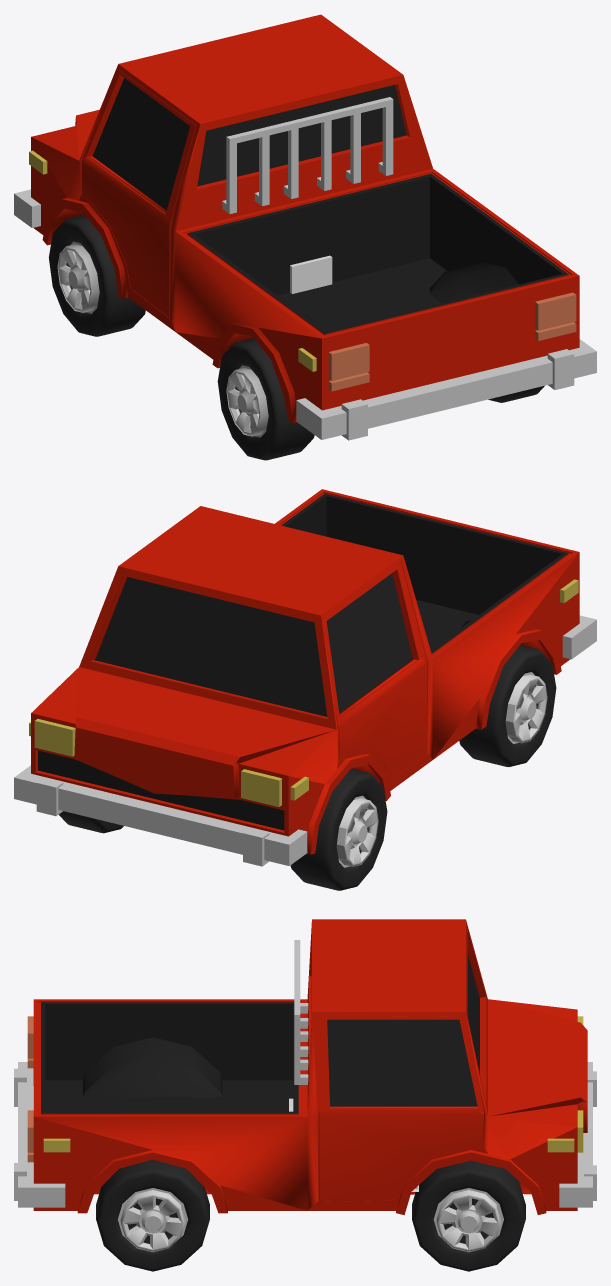
File: miniTRUCKcar(door).fbx
3 views of the same model, one above another, from view 1: azimuth 30°, elevation 25°; view 2: azimuth 150°, elevation 25°; view 3: azimuth 270°, elevation 25° (orthographic). The views are drawn at different scales.
Parts seen in each view (by area): view 1: Cube, Cube.001, Cylinder_001, Cylinder, Cube.011; view 2: Cube, Cube.001, Cylinder_001, Cylinder, Cylinder_002; view 3: Cube, Cube.003, Cube.002, Cylinder_003, Cylinder_002.
Part boxes in pixels (x1,y1,x2,y2): Cube: (14,14,596,440); Cube.001: (81,70,195,315); Cylinder_001: (48,214,145,336); Cylinder: (217,338,314,460); Cube.011: (290,255,332,293); Cube: (14,489,596,866); Cube.001: (324,562,426,779); Cylinder_001: (290,768,387,890); Cylinder: (459,644,556,766); Cylinder_002: (58,811,123,833); Cube: (14,919,596,1215); Cube.003: (319,1015,483,1200); Cube.002: (327,1019,477,1108); Cylinder_003: (96,1159,209,1271); Cylinder_002: (412,1160,525,1271).
Bounding box in the file's own units: 398 × 346 × 747.
